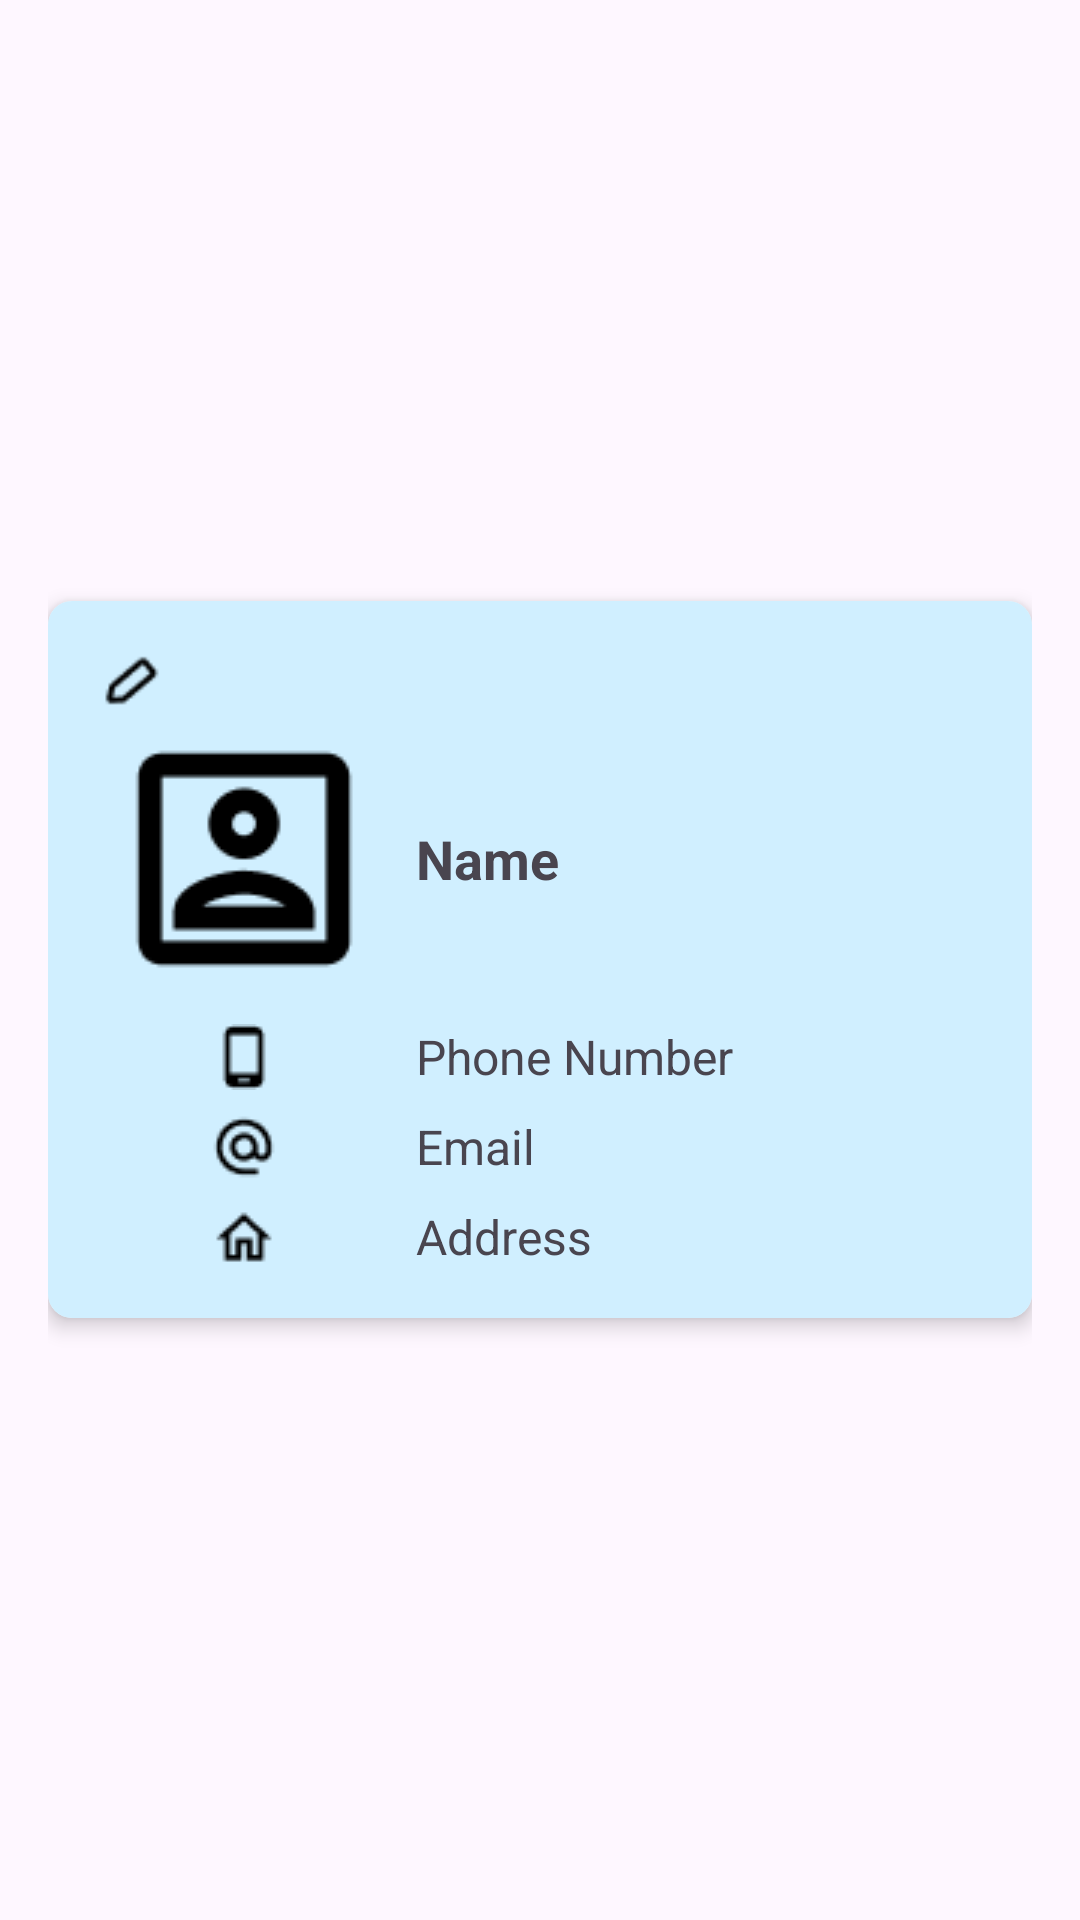

Icon bounding boxes for this 1080×1920 phone screenshot, format {"left": x1, "top": y1, "right": x2, "bottom": y2}:
bahay: {"left": 216, "top": 1212, "right": 272, "bottom": 1262}
editt: {"left": 105, "top": 657, "right": 159, "bottom": 705}
portrait: {"left": 136, "top": 751, "right": 352, "bottom": 967}
